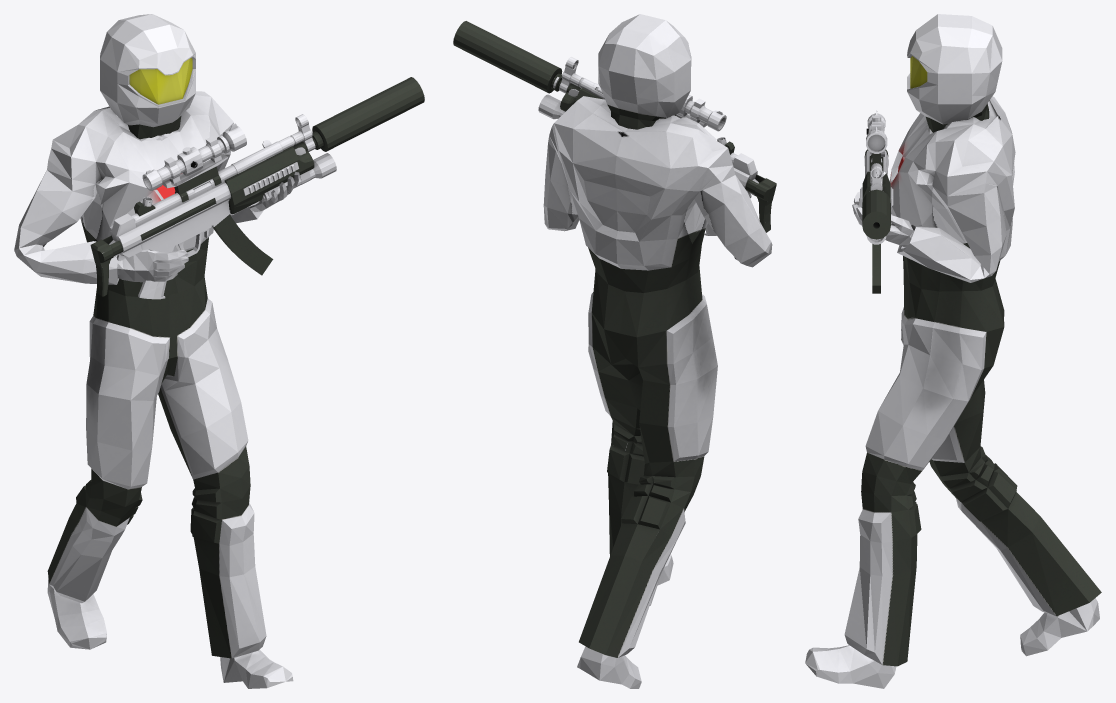
Rendered from walk16.obj.
3 views of the same model, side by side, from view 1: azimuth 30°, elevation 25°; view 2: azimuth 150°, elevation 25°; view 3: azimuth 270°, elevation 25° (orthographic). The views are drawn at different scales.
Visible parts, largest first — view 1: Male001Skin_001, Object001; view 2: Male001Skin_001, Object001; view 3: Male001Skin_001, Object001.
Part boxes in pixels (x1,y1,x2,y2): Male001Skin_001: [14, 14, 299, 688]; Object001: [90, 77, 424, 299]; Male001Skin_001: [543, 14, 772, 688]; Object001: [453, 21, 776, 235]; Male001Skin_001: [805, 14, 1101, 688]; Object001: [860, 110, 893, 293].
Size of the model in its own units: 1111 by 1899 by 797.
1 material, 1 textured.
